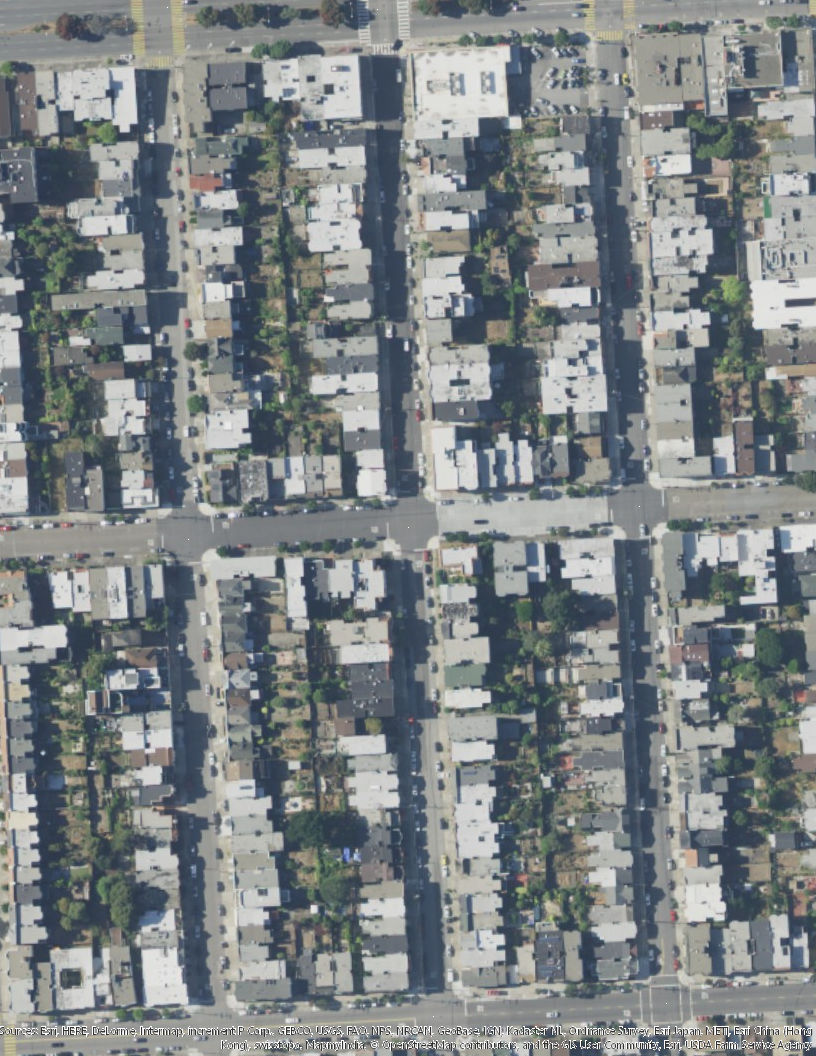zebracross: (168, 1, 187, 56), (127, 1, 145, 57), (395, 1, 412, 43), (356, 1, 372, 44), (142, 54, 175, 69), (581, 1, 597, 30), (622, 1, 637, 30), (595, 30, 626, 43), (372, 42, 398, 56), (1, 1034, 16, 1056)
